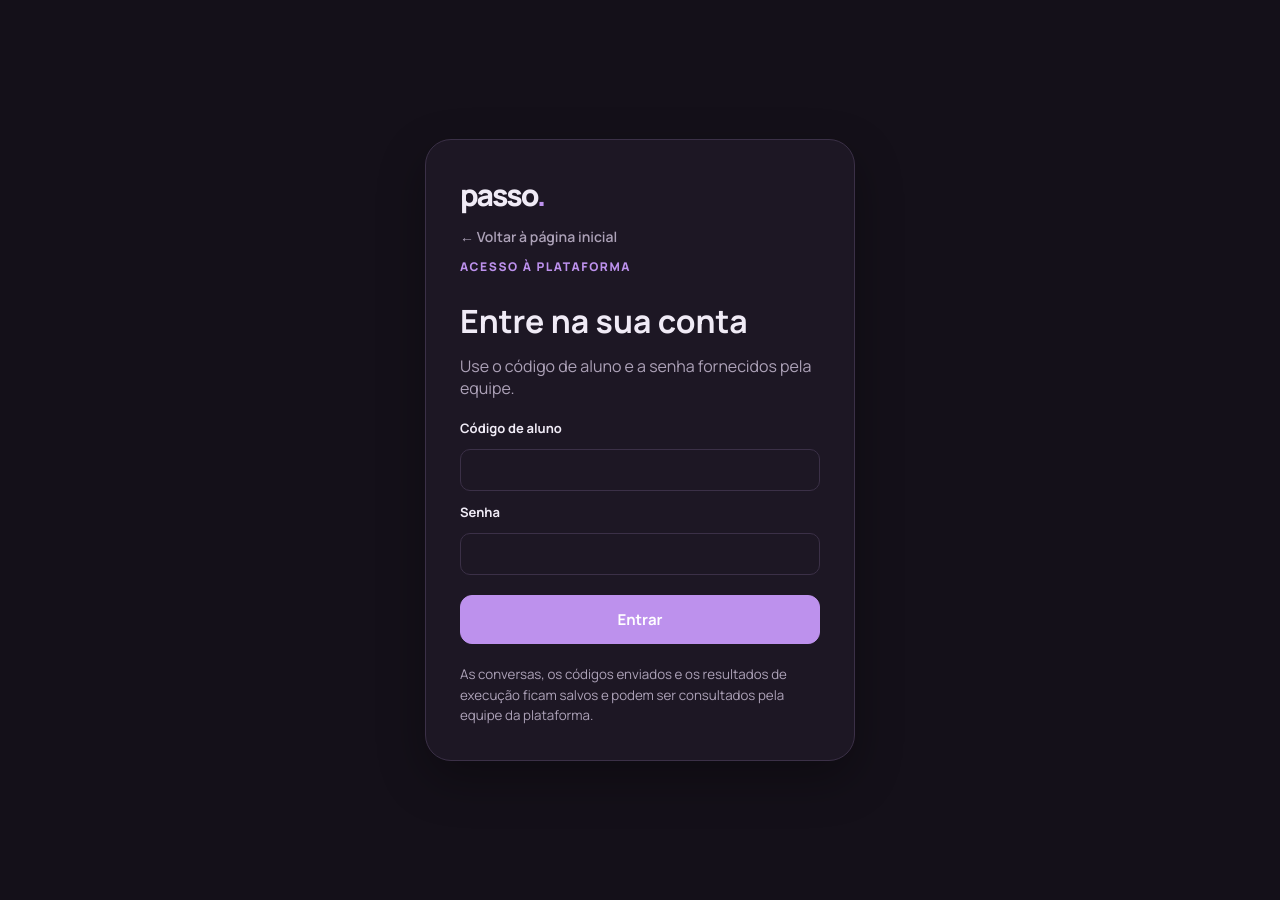
Test: sends a student to chat after login
Step 1. Type "aluno" into the field labelled "Código de aluno" → [640, 470], box [460,449,820,491]
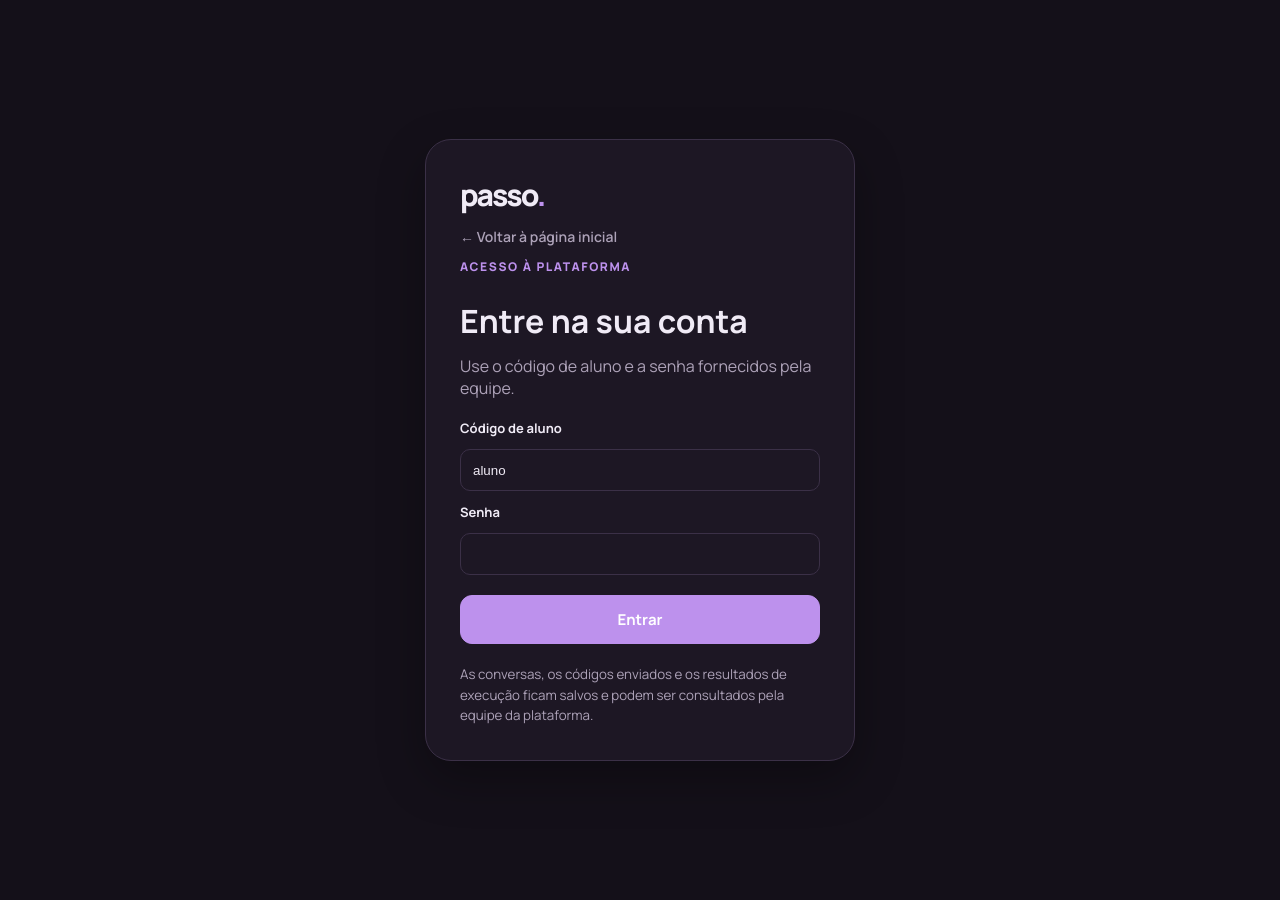
Step 2. Type "abcdef" into the password field labelled "Senha" → [640, 554], box [460,533,820,575]
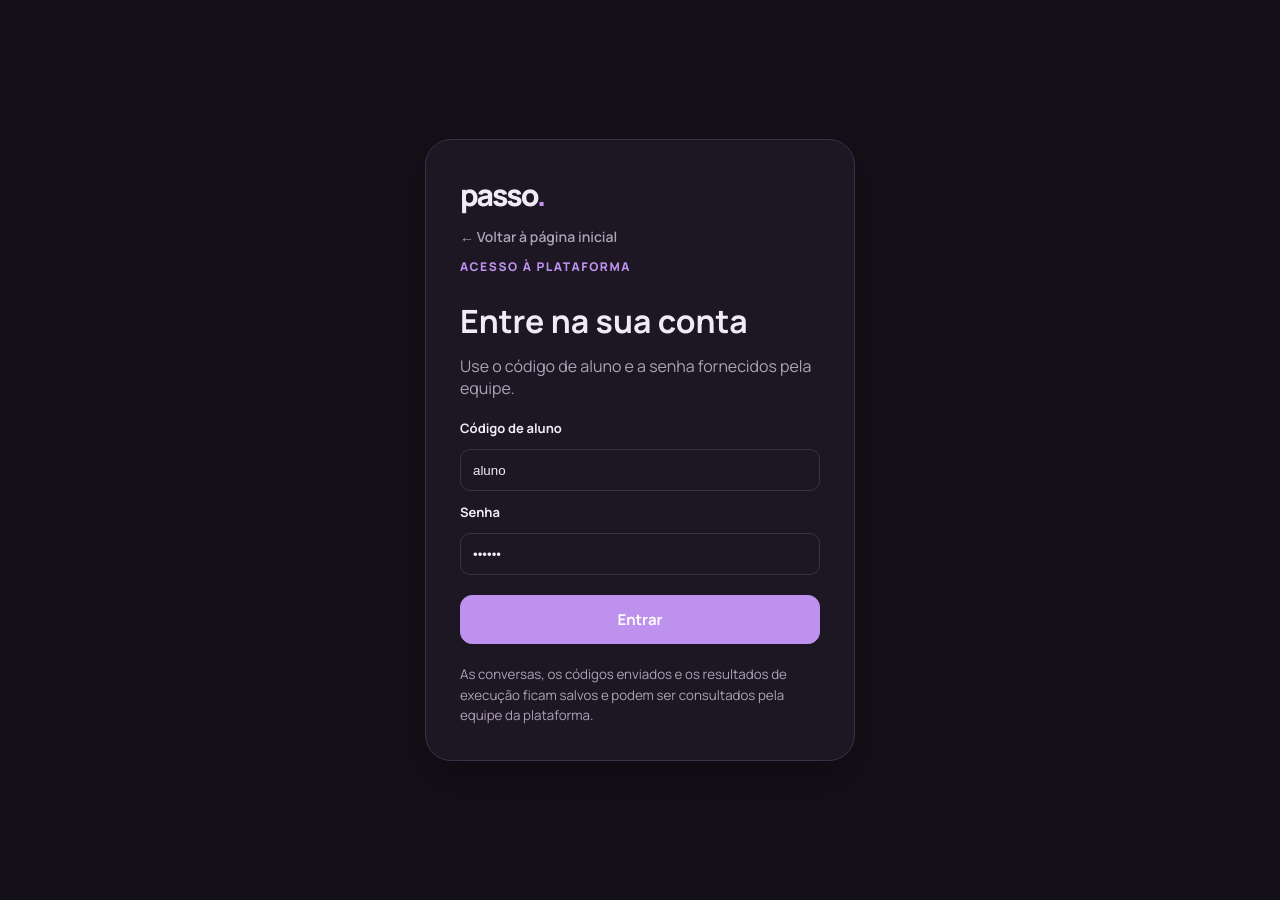
Step 3. Click the button "Entrar" → [640, 620], box [460,595,820,644]
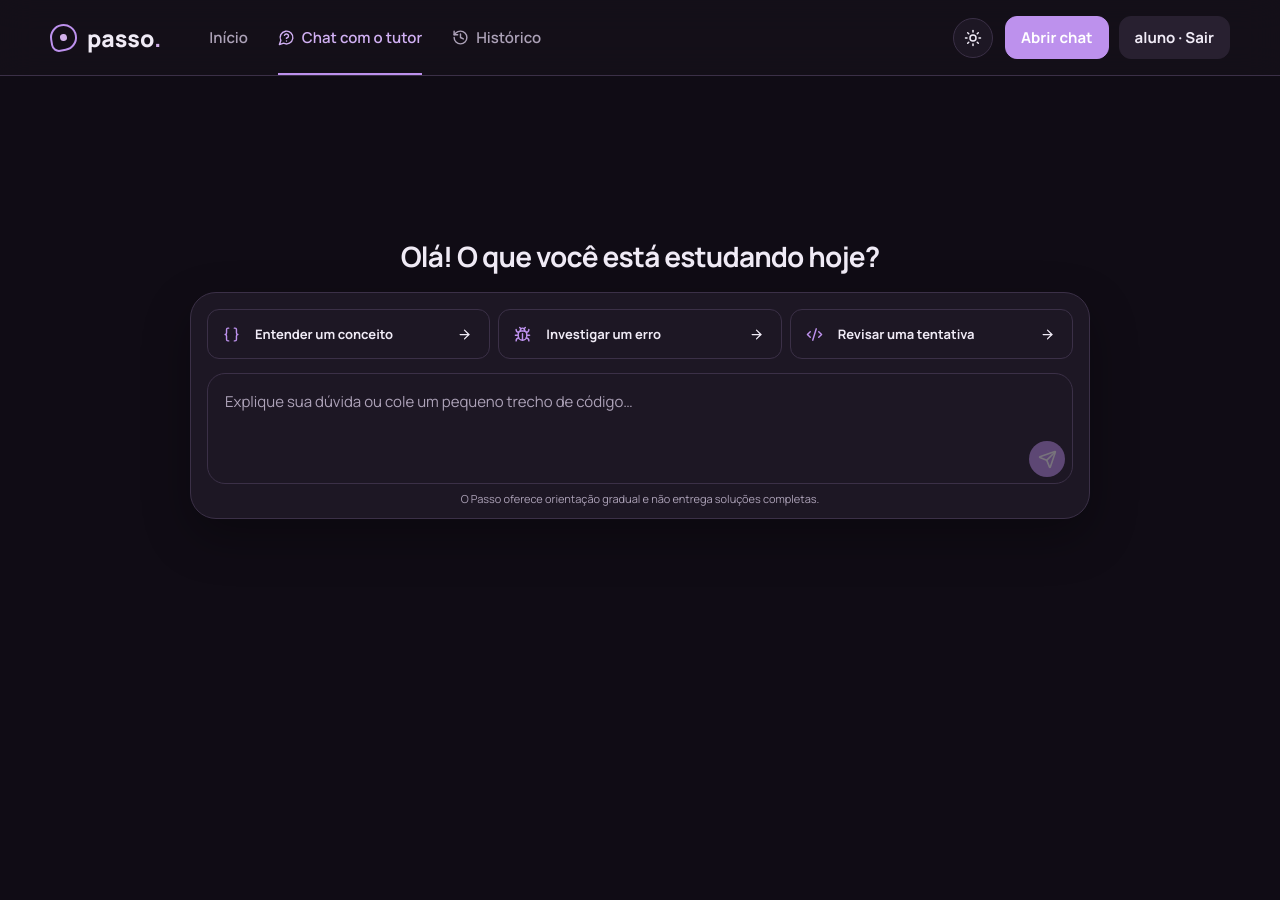
Expected: the text "Olá! O que você está estudando hoje?" is shown, [401,237,879,275]
